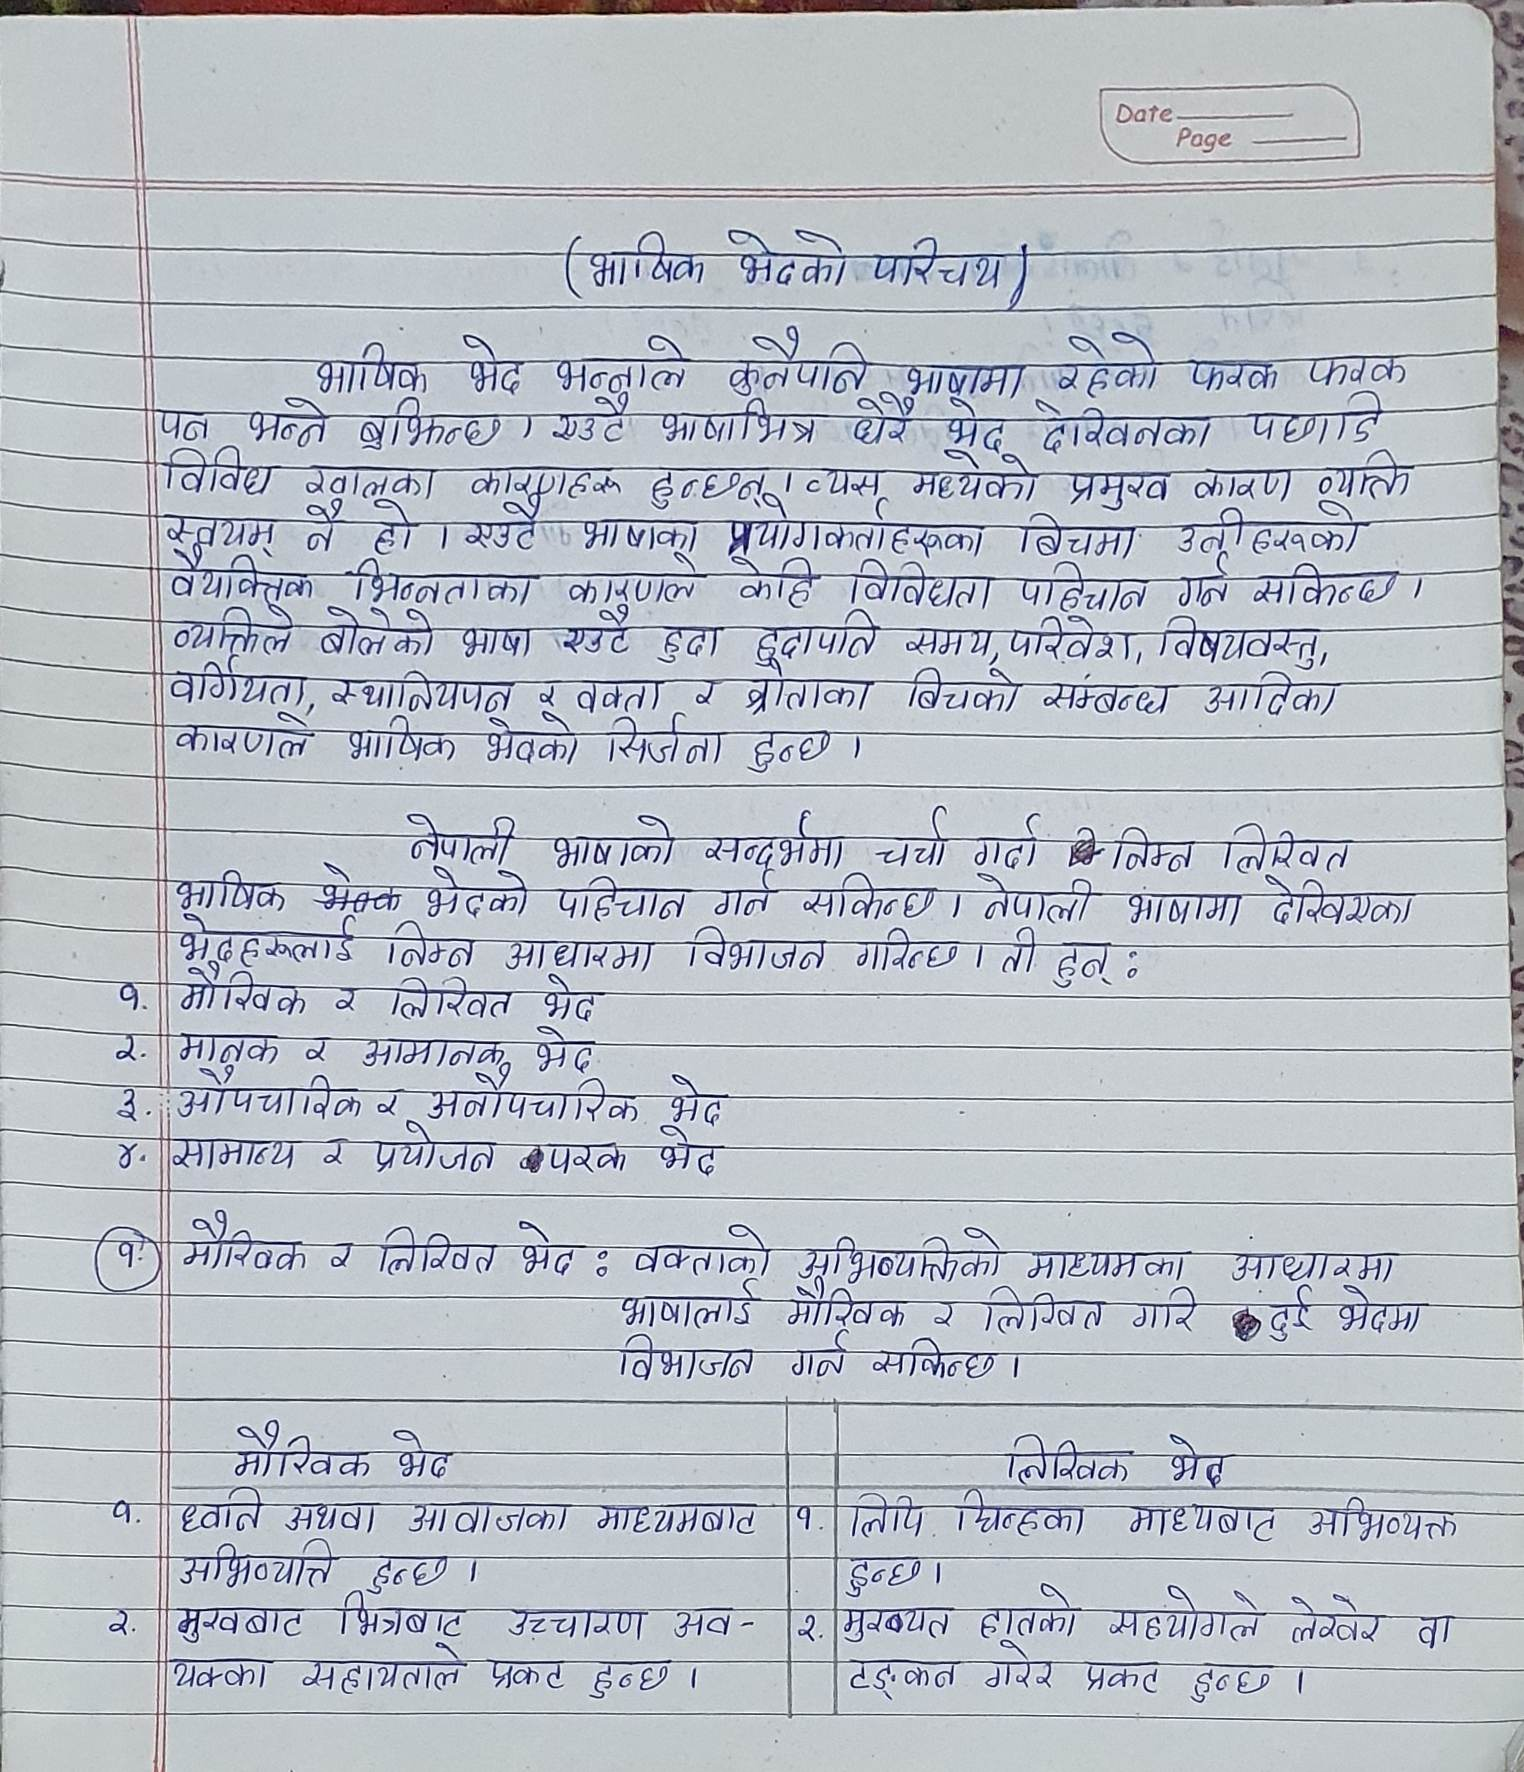text: (727, 509, 987, 556), (797, 1227, 995, 1282), (715, 330, 873, 398), (1174, 505, 1363, 561), (345, 558, 540, 610), (424, 1076, 641, 1123), (719, 225, 867, 292), (173, 915, 357, 966), (1155, 616, 1327, 671), (1305, 1495, 1470, 1550), (219, 1424, 374, 1483), (170, 1068, 363, 1115), (1036, 399, 1216, 449), (172, 1211, 311, 1276), (1103, 1587, 1260, 1644), (555, 328, 689, 395), (699, 812, 855, 869), (1221, 1239, 1403, 1287), (289, 1645, 472, 1694), (870, 235, 1011, 295), (1268, 875, 1425, 930), (656, 396, 822, 448), (365, 1121, 497, 1184), (351, 399, 514, 451), (624, 1222, 773, 1278), (843, 556, 987, 613), (614, 1334, 769, 1386), (800, 872, 951, 927), (176, 1537, 335, 1588), (327, 674, 516, 716), (547, 814, 681, 872), (164, 655, 300, 713), (1013, 561, 1159, 613), (158, 553, 321, 600), (903, 451, 1051, 502), (170, 716, 318, 767), (617, 1281, 760, 1334), (948, 1490, 1094, 1541), (998, 1433, 1140, 1486), (1115, 1502, 1284, 1546), (1256, 562, 1408, 610), (740, 664, 882, 716), (1216, 824, 1354, 877), (1043, 672, 1176, 726), (176, 967, 309, 1022), (674, 931, 823, 979), (561, 555, 695, 607), (374, 1227, 500, 1282), (865, 1337, 1011, 1385), (1250, 396, 1385, 448), (746, 610, 880, 661), (1201, 674, 1343, 722), (969, 1584, 1088, 1641), (588, 234, 699, 294), (418, 863, 537, 919), (1008, 613, 1131, 668), (1025, 1245, 1188, 1285), (556, 877, 693, 925), (601, 719, 727, 771), (158, 603, 291, 652), (904, 664, 1033, 716), (500, 1605, 650, 1648), (315, 607, 439, 660), (1051, 338, 1161, 396), (308, 345, 440, 393), (339, 717, 463, 768), (402, 1499, 576, 1535), (844, 927, 966, 978), (494, 936, 660, 973), (974, 872, 1097, 922), (170, 1132, 301, 1178), (595, 1501, 764, 1537), (399, 812, 519, 863), (1122, 884, 1256, 930), (838, 1653, 963, 1701), (981, 1288, 1103, 1337), (301, 458, 436, 502), (1014, 512, 1144, 558), (332, 1596, 461, 1639), (384, 979, 516, 1022), (372, 925, 487, 973), (463, 466, 629, 499), (647, 466, 764, 512), (1314, 451, 1418, 503), (1336, 1290, 1437, 1344), (173, 871, 294, 916), (787, 1285, 907, 1331), (1281, 1593, 1384, 1645), (167, 1605, 311, 1642), (155, 451, 277, 494), (571, 514, 702, 555), (898, 356, 1022, 398), (158, 509, 282, 551), (1103, 826, 1201, 878), (868, 811, 954, 869), (481, 720, 586, 767), (356, 1034, 511, 1065), (549, 393, 639, 448), (1161, 1430, 1247, 1486), (743, 729, 844, 776), (461, 500, 547, 555), (1299, 350, 1414, 390), (1183, 1657, 1280, 1706), (458, 328, 528, 395), (841, 1492, 933, 1541), (359, 1552, 470, 1593), (1064, 467, 1171, 509), (660, 1071, 743, 1126), (935, 395, 1014, 451), (243, 398, 335, 446), (966, 814, 1042, 872), (561, 609, 650, 658), (1180, 351, 1281, 395), (731, 561, 822, 609), (838, 1605, 959, 1641), (166, 1653, 273, 1694), (980, 1641, 1060, 1694), (387, 1428, 463, 1484), (1051, 933, 1117, 996), (580, 1657, 680, 1700), (513, 1217, 580, 1279), (173, 1492, 268, 1535), (280, 1496, 384, 1535), (173, 1026, 280, 1064), (484, 1651, 568, 1698), (1192, 466, 1296, 503), (1082, 1654, 1168, 1700), (904, 622, 996, 664), (571, 677, 665, 717), (531, 1028, 612, 1074), (1128, 1288, 1206, 1337), (844, 399, 920, 448), (844, 1554, 930, 1596), (654, 1126, 730, 1172), (715, 869, 782, 921), (458, 622, 543, 663), (796, 464, 891, 499), (546, 1138, 629, 1177), (537, 973, 600, 1025), (788, 1332, 852, 1382), (656, 621, 724, 666), (362, 503, 418, 555), (294, 502, 351, 551), (1177, 561, 1236, 609), (1268, 1293, 1320, 1346), (668, 1605, 737, 1639), (155, 401, 213, 440), (1406, 1609, 1459, 1651), (106, 1032, 152, 1071), (1004, 925, 1036, 982), (106, 1495, 142, 1538), (106, 1136, 151, 1171), (106, 1606, 142, 1648), (326, 1236, 357, 1279), (332, 981, 363, 1022), (796, 1603, 823, 1648), (303, 1028, 335, 1065), (315, 1135, 345, 1172), (935, 1297, 965, 1334), (791, 1499, 819, 1538), (377, 1080, 402, 1121), (118, 976, 145, 1014), (121, 1083, 140, 1123), (693, 678, 721, 705), (537, 678, 562, 707)
